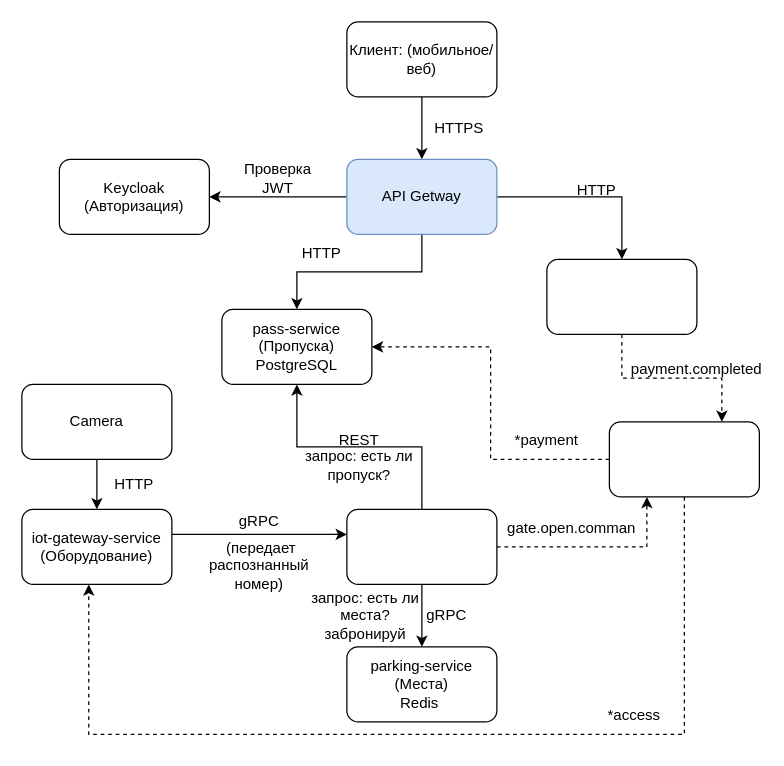
The diagram is 784 pixels wide and 766 high, and some of its shapes have lost their labels. Here are the shapes that lost their labels. From the top down, the centre of each, then its label:
the point at 621,296: payment-service (Платежи) PostgreSQL
the point at 683,459: RABBITMQ (Брокер сообщений)
the point at 421,546: access-service (Контроль) MongoDB
